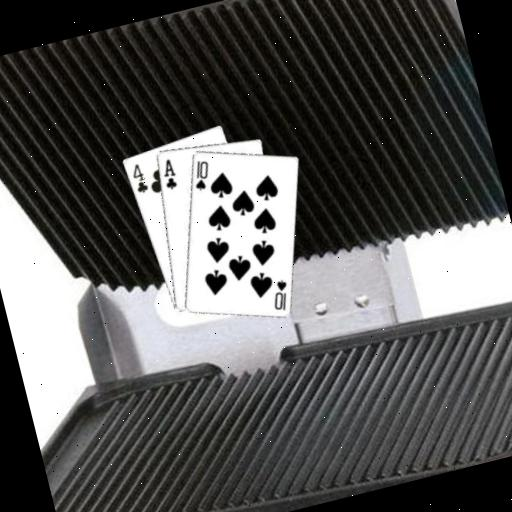10S: (264, 275, 294, 314), (186, 155, 216, 193)
4C: (126, 159, 151, 196)
AC: (157, 155, 181, 191)
